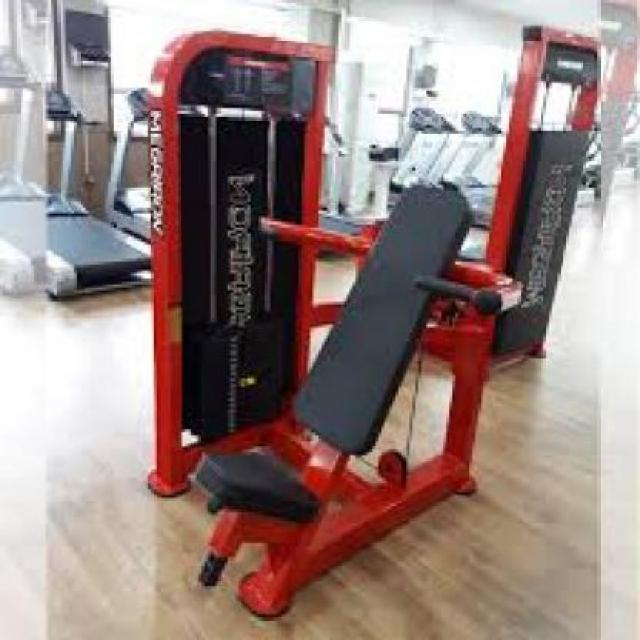shoulder press machine: (111, 20, 538, 626)
